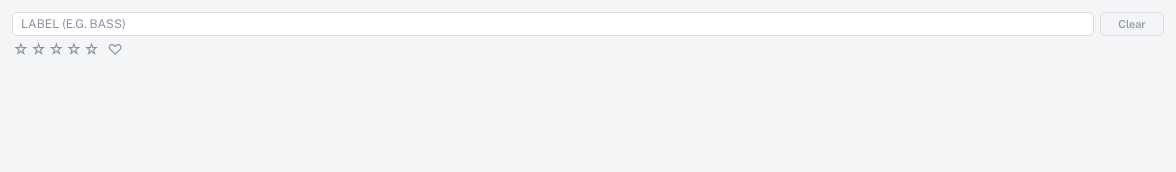
AnnotationEditor › reports a refused write and takes the change back off the screen
Step 1. Click the button named "Rate 5" → click(92, 50), box [83,42,100,57]
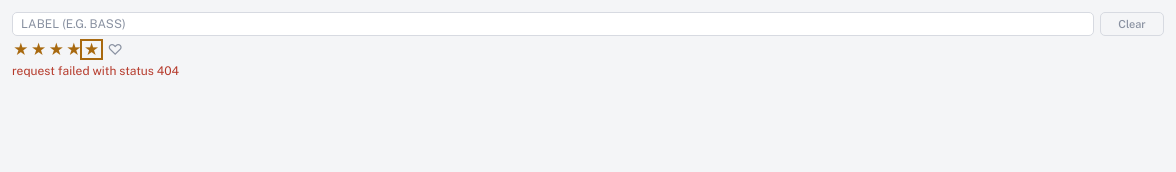
Check: the text "request failed with status 404" is shown, box [12,64,179,78]
